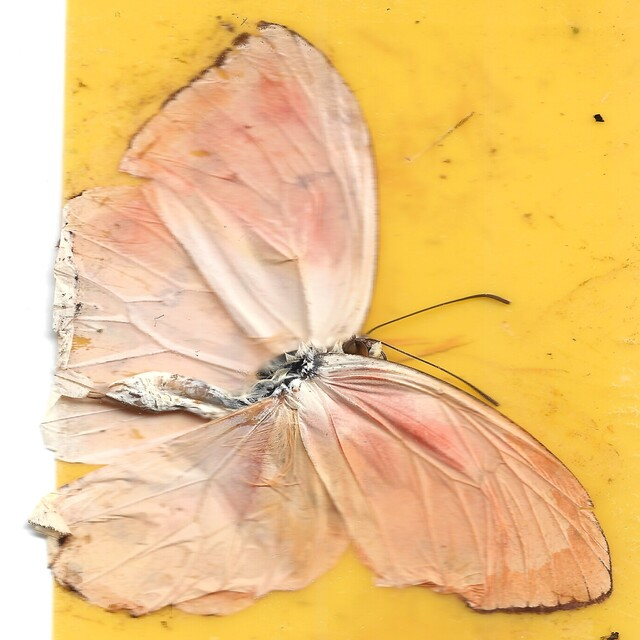Lepidoptera: (26, 22, 614, 618)
